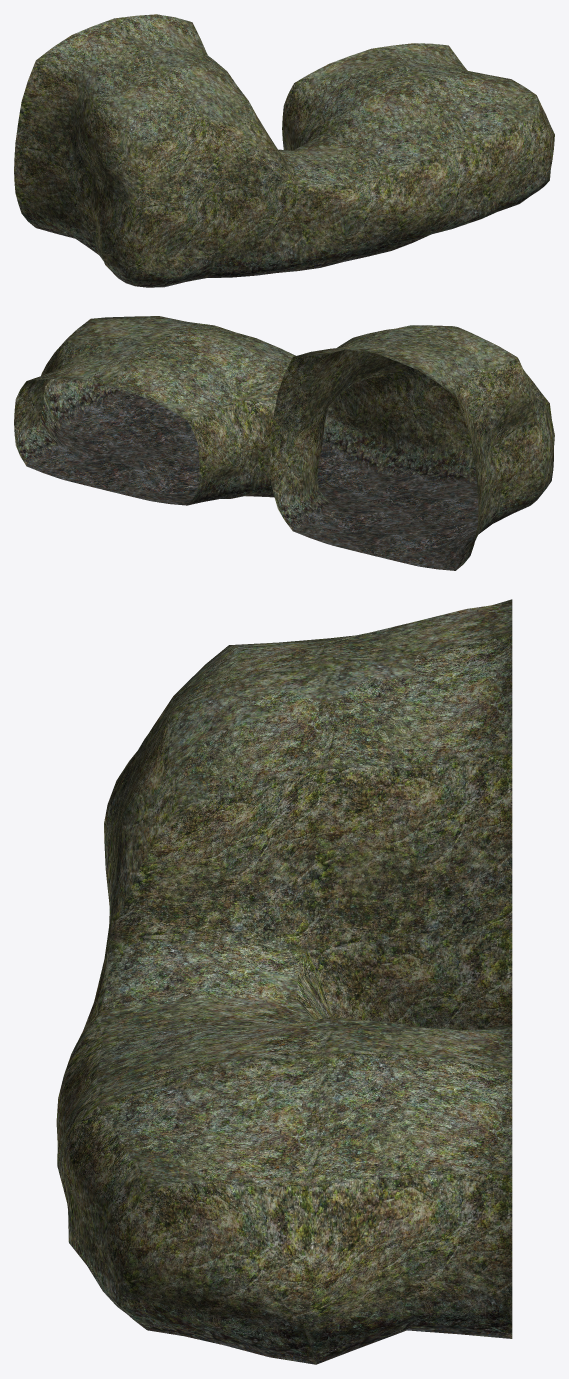
The model's file is thm_all_cave_s03_damprock_mirror_r8_r8.fbx.
3 renders of one model, top to bottom at view 1: azimuth 30°, elevation 25°; view 2: azimuth 150°, elevation 25°; view 3: azimuth 270°, elevation 25°, orthographic. The views are drawn at different scales.
Parts seen in each view (by area): view 1: mesh_node; view 2: mesh_node; view 3: mesh_node.
Part boxes in pixels (<box>): mesh_node: <box>14,14,554,287</box>; mesh_node: <box>14,316,554,570</box>; mesh_node: <box>56,599,512,1364</box>.
Size of the model in its own units: 44.12 by 18.91 by 18.42.
